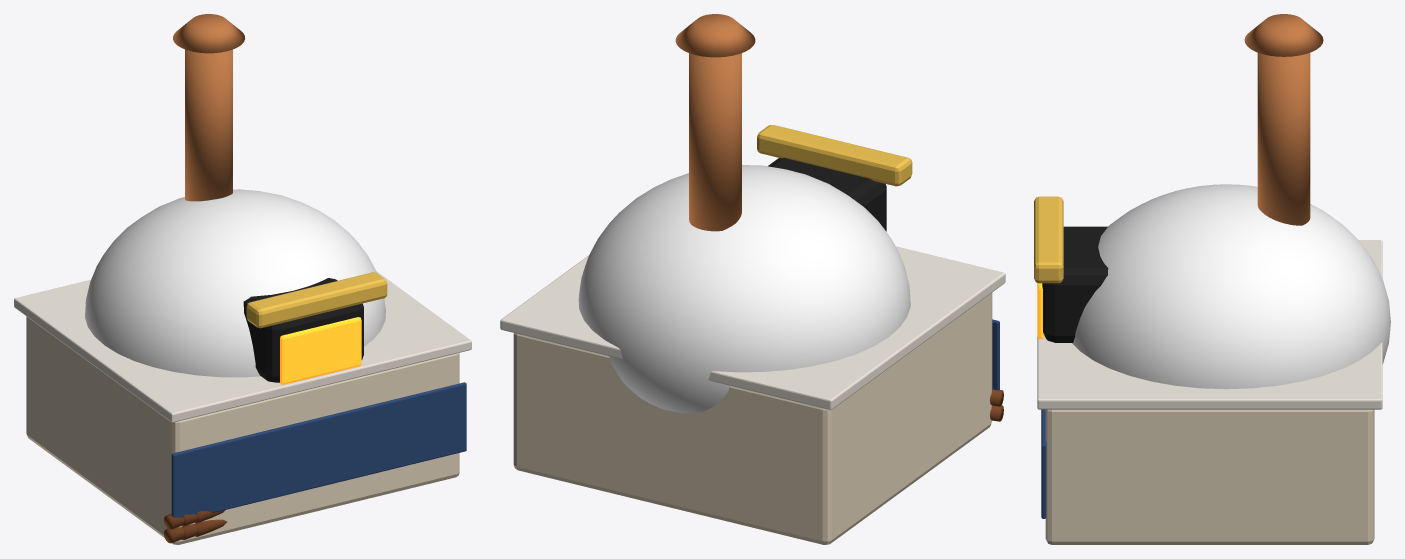
File: ofen-4-napoletano.glb
3 views of the same model, side by side, from view 1: azimuth 30°, elevation 25°; view 2: azimuth 150°, elevation 25°; view 3: azimuth 270°, elevation 25° (orthographic). The views are drawn at different scales.
Visible parts, largest first — view 1: Icosphere, Cube, Cube.002, Cube.001, Cylinder, Cube.004, Cube.005, Cube.003, Cone; view 2: Cube, Icosphere, Cube.001, Cylinder, Cube.005, Cone, Cube.003; view 3: Icosphere, Cube, Cube.001, Cylinder, Cube.003, Cube.005, Cone, Cube.002.
Boxes of the visible parts, box(x1,y1,x2,y2) form: Icosphere: box(85, 189, 385, 377); Cube: box(26, 316, 459, 544); Cube.002: box(171, 382, 466, 517); Cube.001: box(14, 271, 471, 422); Cylinder: box(185, 49, 232, 201); Cube.004: box(280, 317, 361, 384); Cube.005: box(246, 272, 387, 328); Cube.003: box(243, 278, 363, 382); Cone: box(173, 14, 244, 53); Cube: box(513, 293, 992, 544); Icosphere: box(578, 165, 910, 413); Cube.001: box(500, 246, 1005, 409); Cylinder: box(689, 53, 741, 231); Cube.005: box(757, 125, 912, 186); Cone: box(675, 14, 755, 57); Cube.003: box(768, 158, 886, 231); Icosphere: box(1072, 184, 1390, 389); Cube: box(1045, 409, 1374, 544); Cube.001: box(1037, 240, 1382, 409); Cylinder: box(1257, 53, 1310, 225); Cube.003: box(1042, 226, 1108, 342); Cube.005: box(1034, 196, 1063, 283); Cone: box(1244, 14, 1323, 56); Cube.002: box(1041, 409, 1046, 518).
Size of the model in its own units: 2.3 by 3.01 by 2.17.
